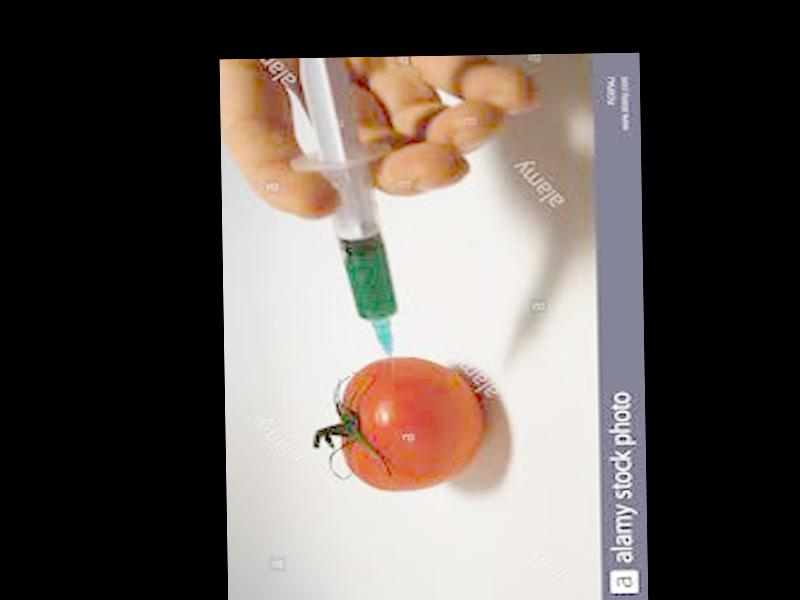Tomato: (340, 355, 483, 490)
